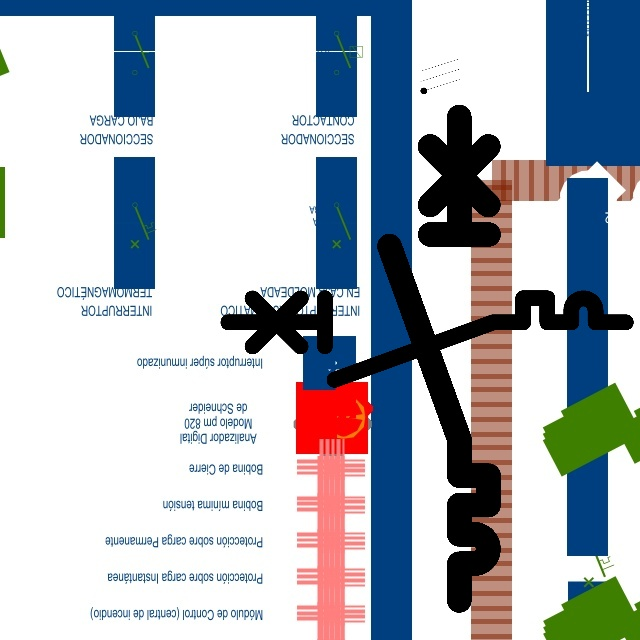interruptor_termomagnetico: (377, 104, 501, 612), (218, 288, 636, 390)
